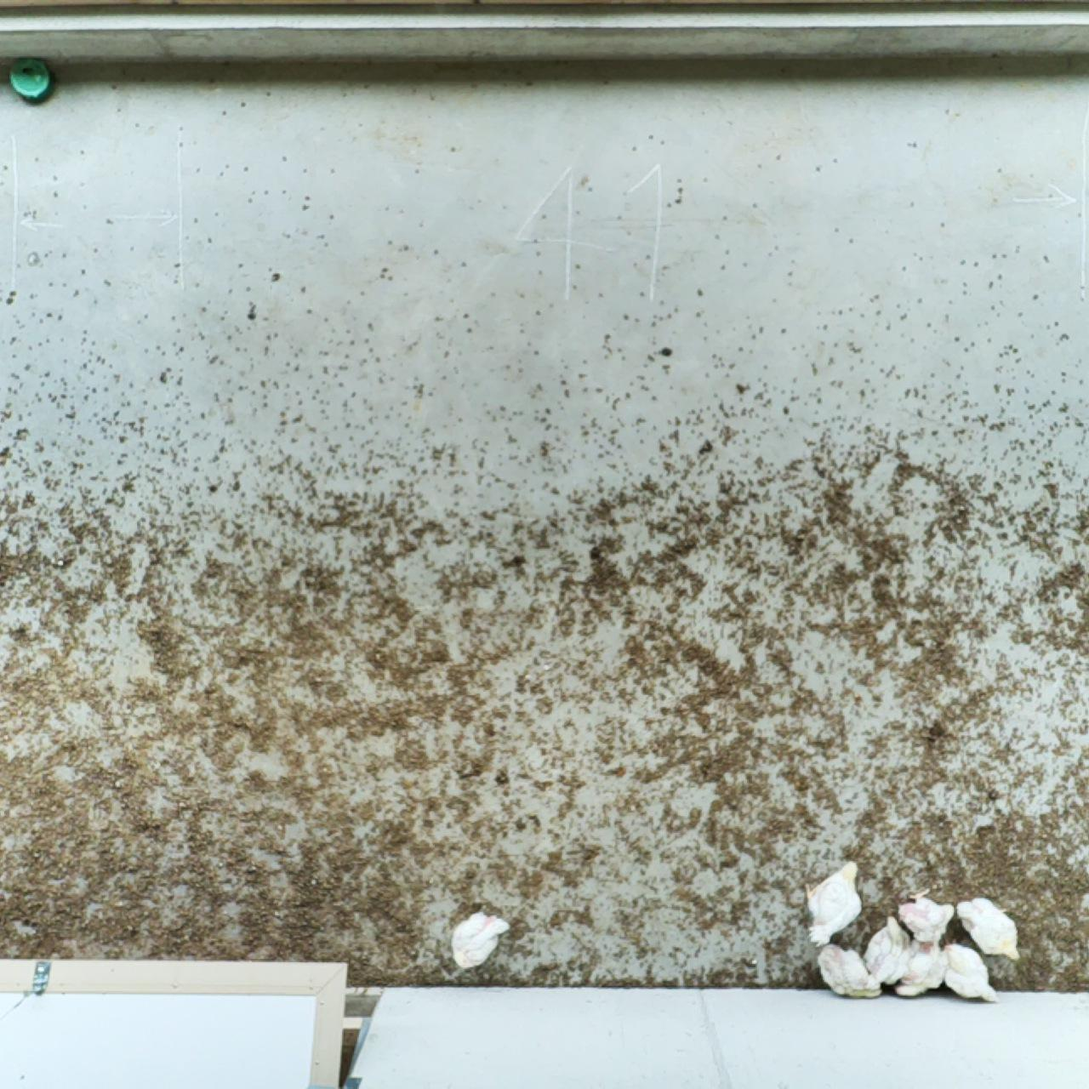chicken: (801, 855, 868, 951), (954, 889, 1024, 964), (861, 912, 913, 997), (815, 940, 883, 1004), (447, 908, 513, 972), (893, 884, 956, 948), (943, 940, 1002, 1005), (894, 938, 949, 999)
